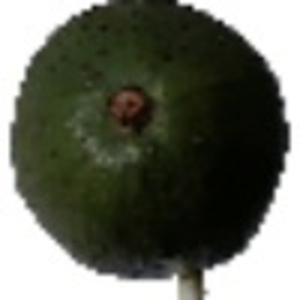abacate: (7, 1, 289, 278)
